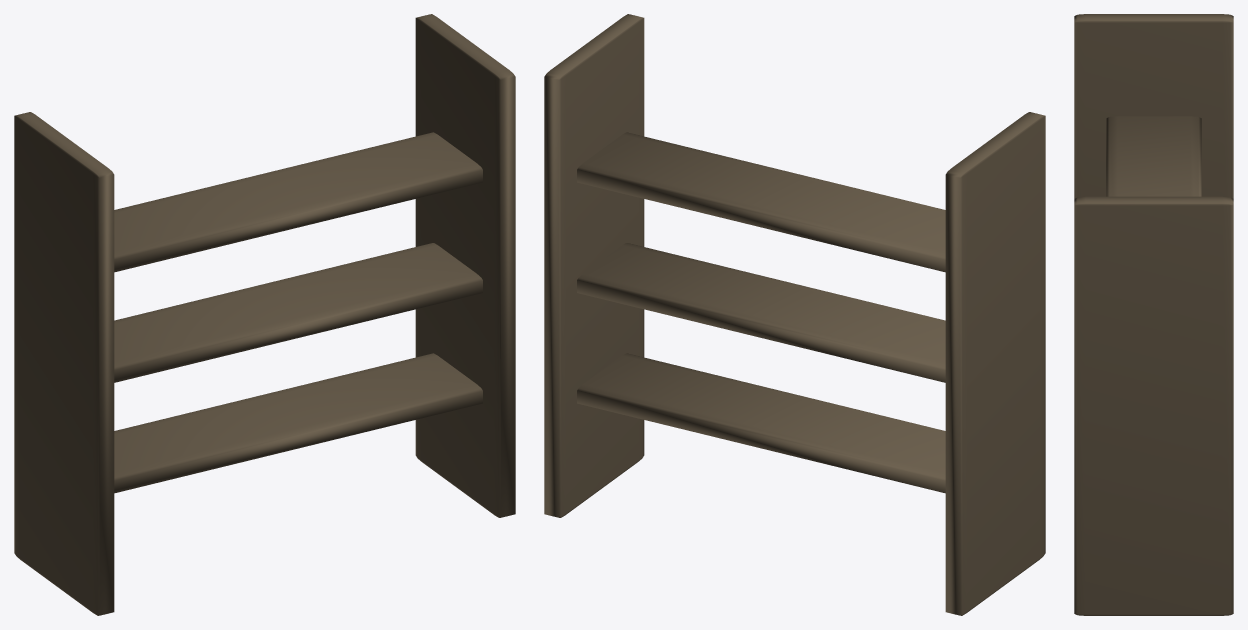
File: shelf.fbx
3 views of the same model, side by side, from view 1: azimuth 30°, elevation 25°; view 2: azimuth 150°, elevation 25°; view 3: azimuth 270°, elevation 25° (orthographic). The views are drawn at different scales.
Visible parts, largest first — view 1: shelf; view 2: shelf; view 3: shelf.
Boxes of the visible parts, box(x1,y1,x2,y2) form: shelf: box(14, 14, 515, 615); shelf: box(544, 14, 1045, 615); shelf: box(1074, 14, 1233, 615).
Bounding box in the file's own units: 395 × 400 × 140.
